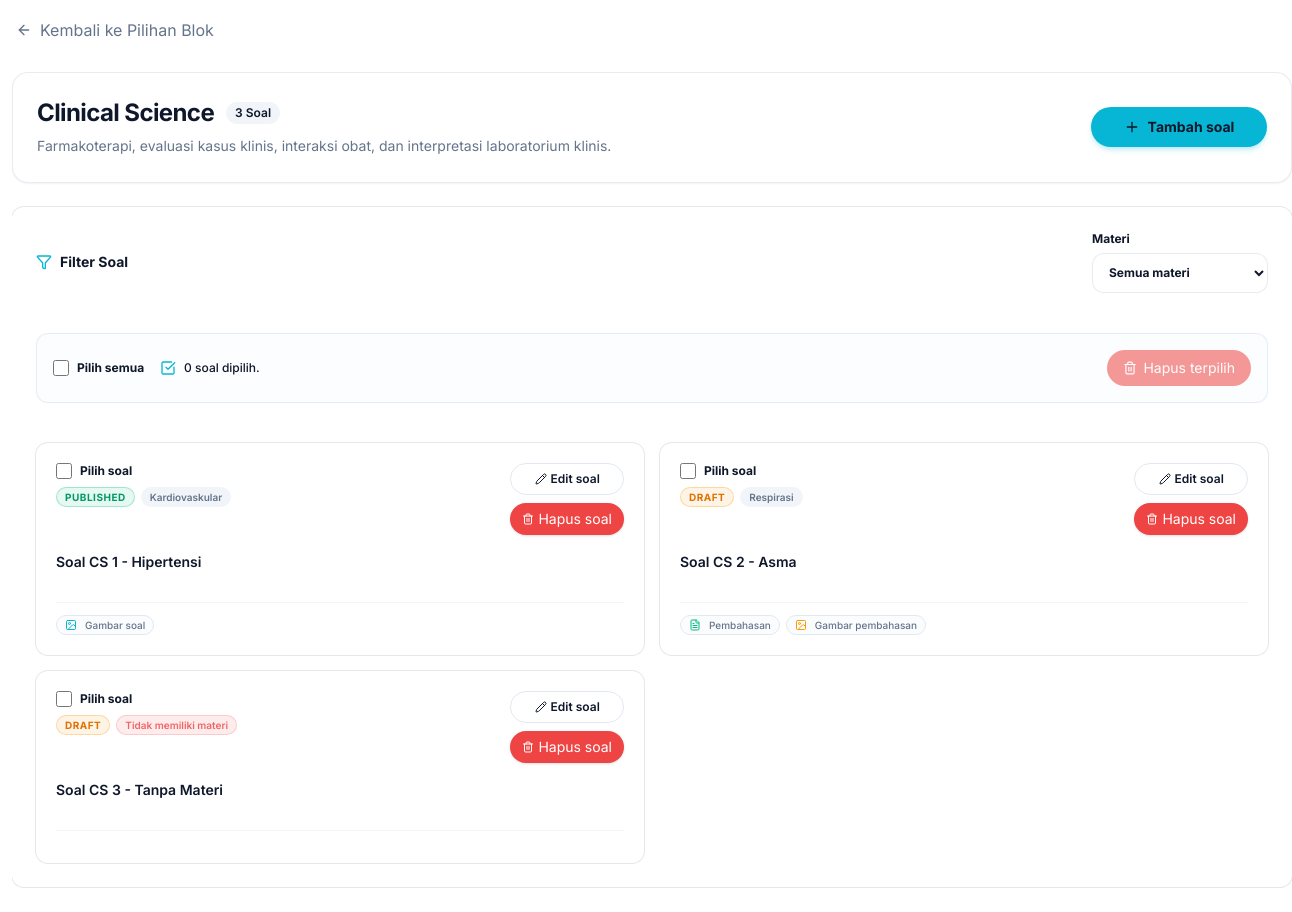
Scenario: QuestionBlockListView › handles individual question selection checkbox
The image size is (1292, 912).
Click the checkbox named "Pilih soal Soal CS 1 - Hipertensi": (64, 471) [56,463,72,479]
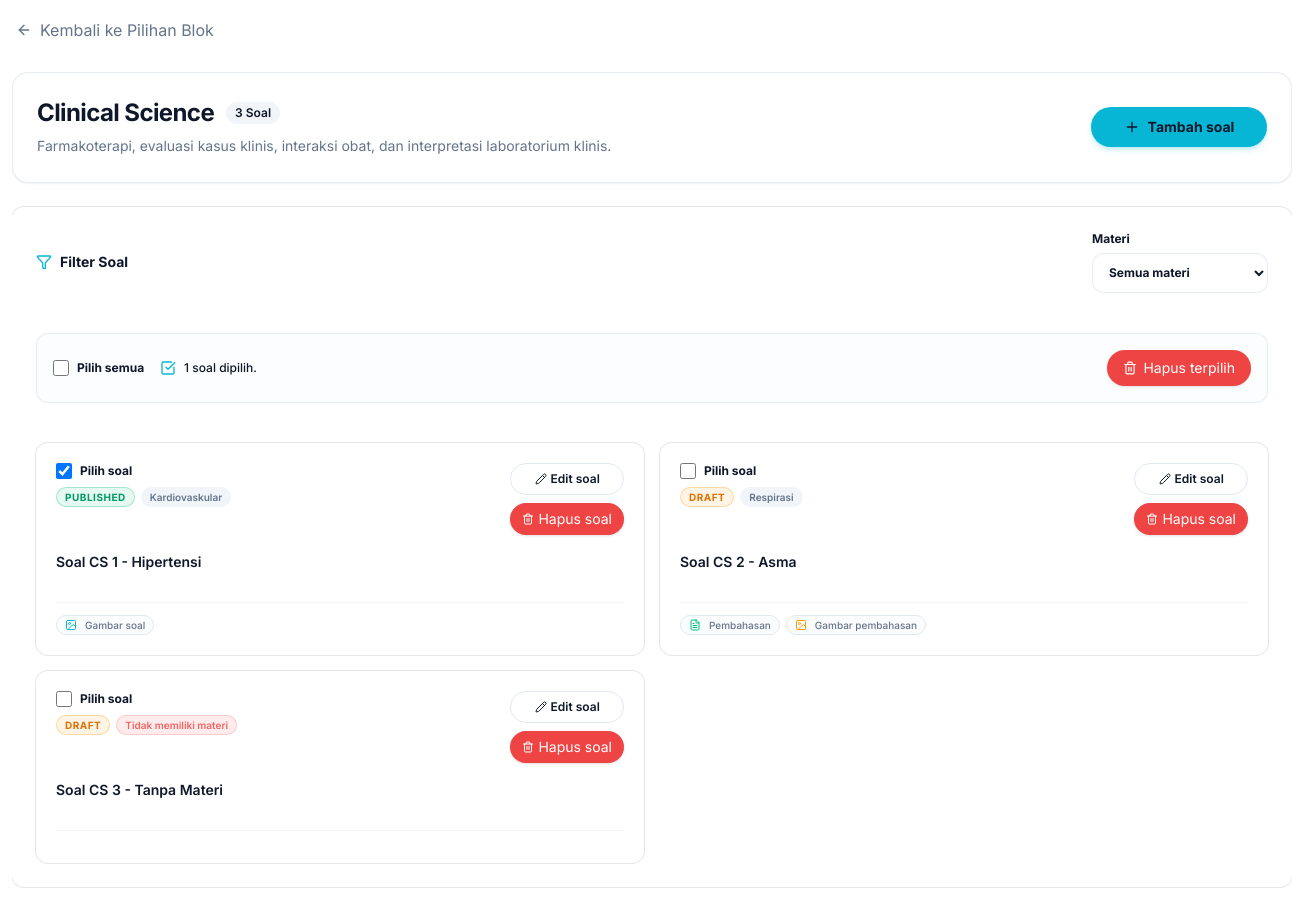
Check: the checkbox named "Pilih soal Soal CS 1 - Hipertensi" is checked
Check: the text "1 soal dipilih." is shown, box [160,360,257,376]
Click the checkbox named "Pilih soal Soal CS 1 - Hipertensi": (64, 471) [56,463,72,479]
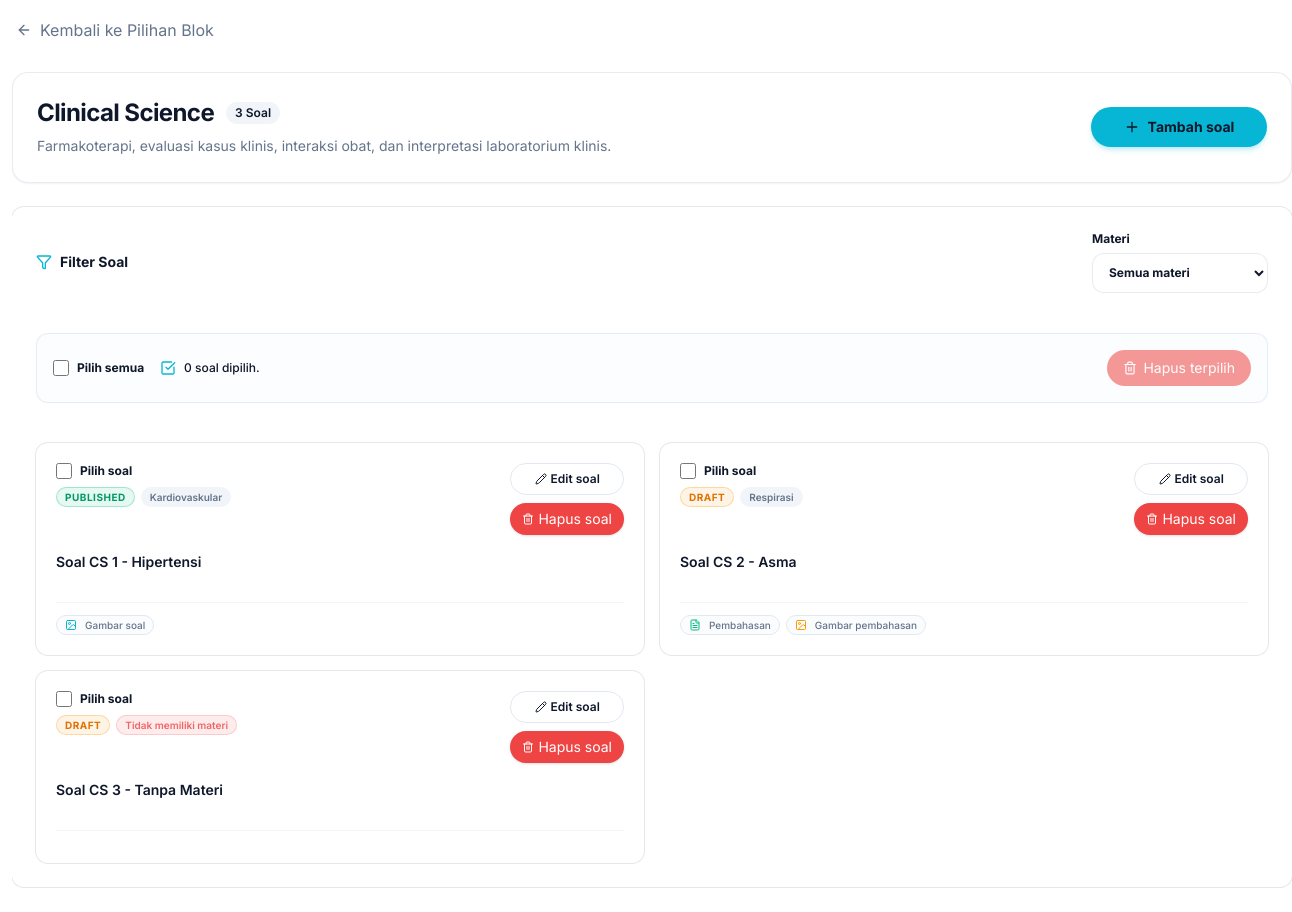
Check: the checkbox named "Pilih soal Soal CS 1 - Hipertensi" is not checked, box [56,463,72,479]
Check: the text "0 soal dipilih." is shown, box [160,360,260,376]
